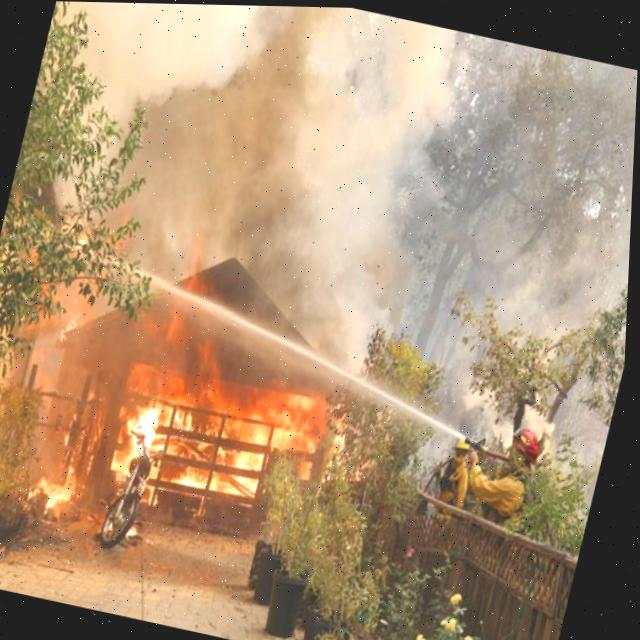fire: (110, 359, 330, 507)
smoke: (78, 1, 638, 375)
